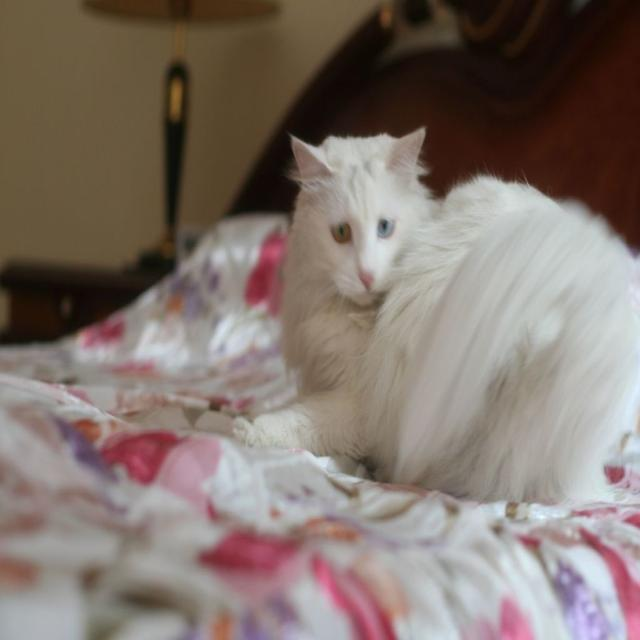Cat: (231, 120, 639, 501)
